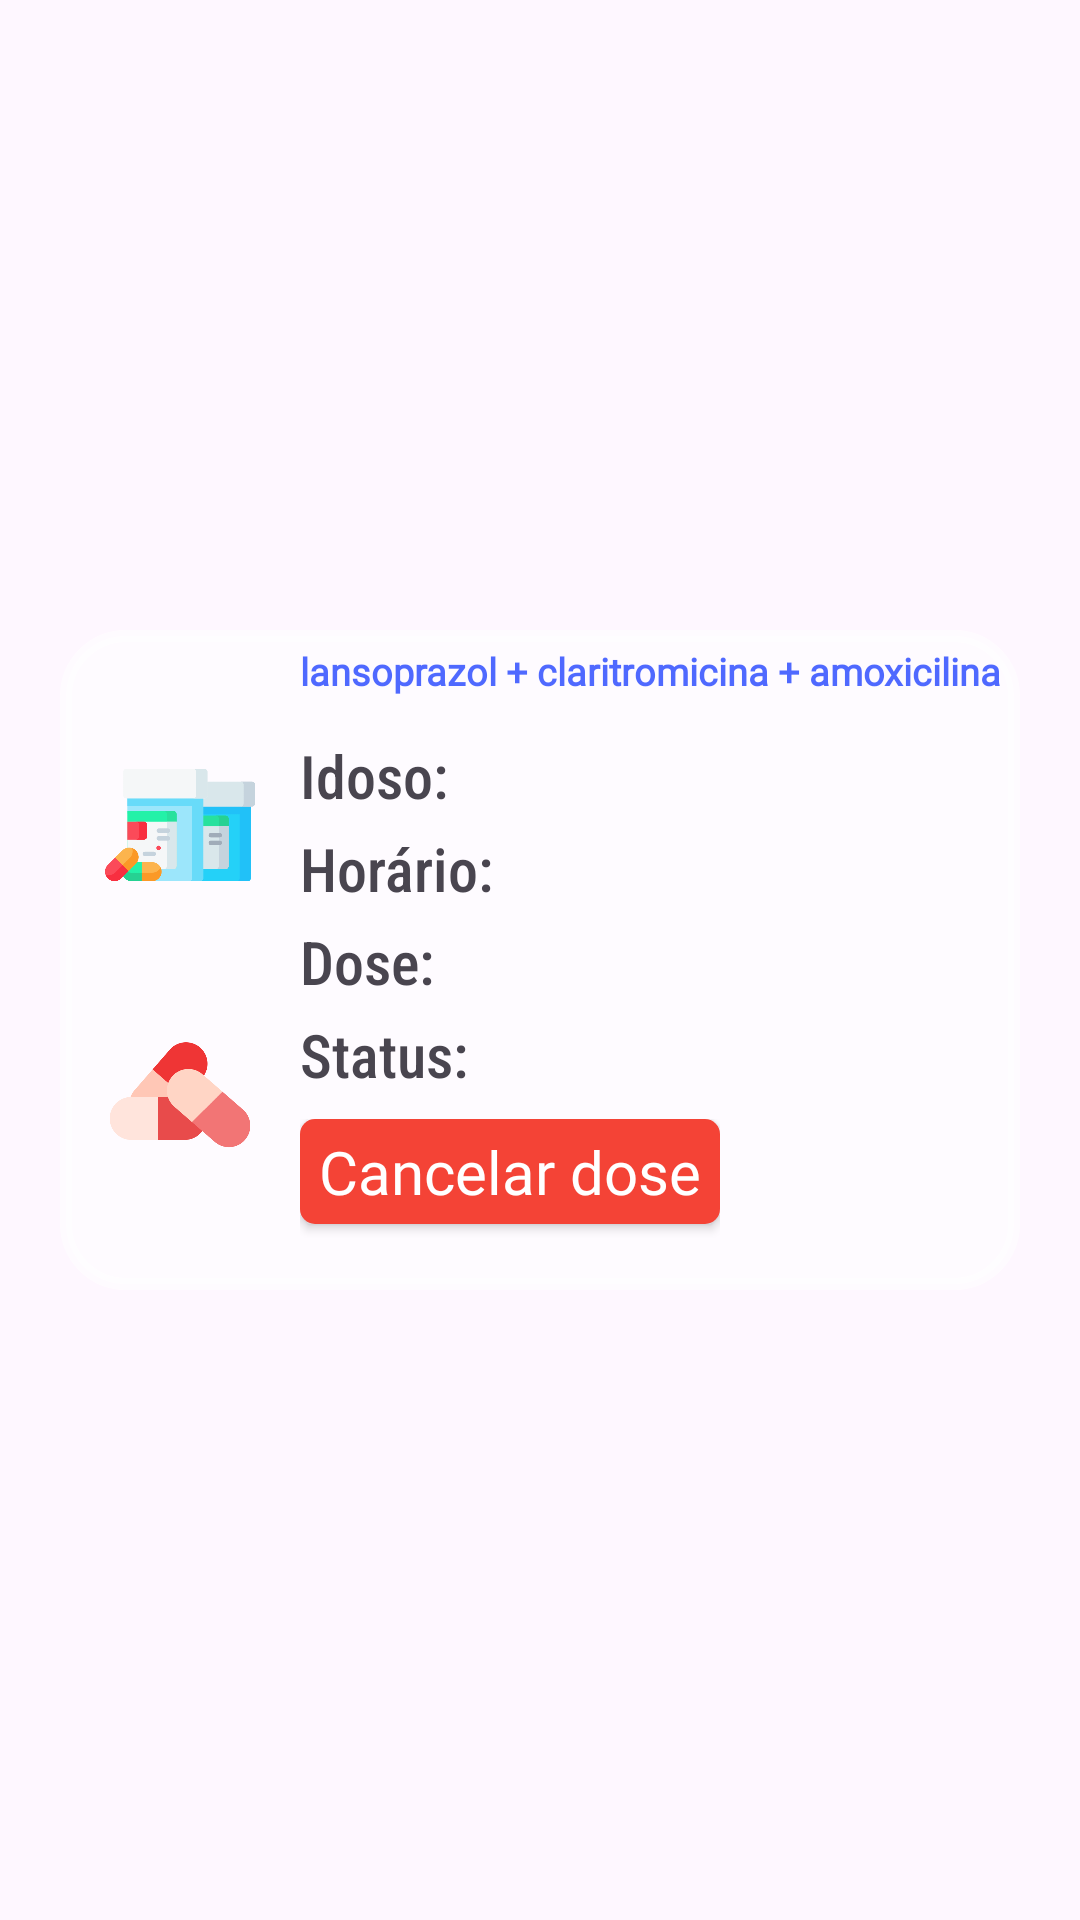

Where to tap for icons on this 1080*1920 app screen, as point (x, y):
medicamento home: point (180, 825)
pill type: point (180, 1094)
